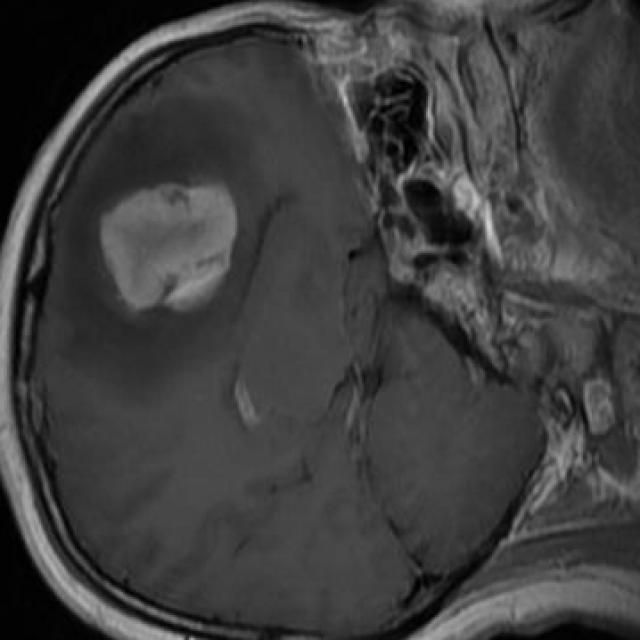meningioma: (100, 184, 237, 310)
